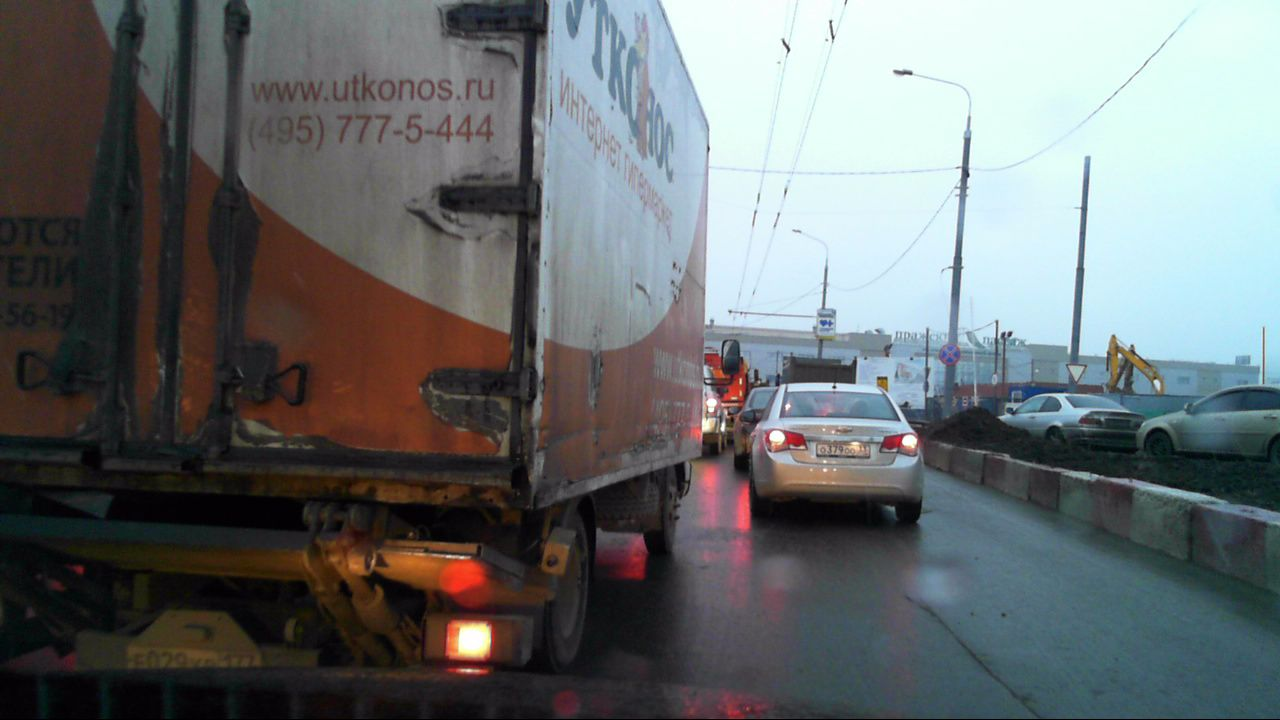No Parking: (938, 345, 961, 368)
